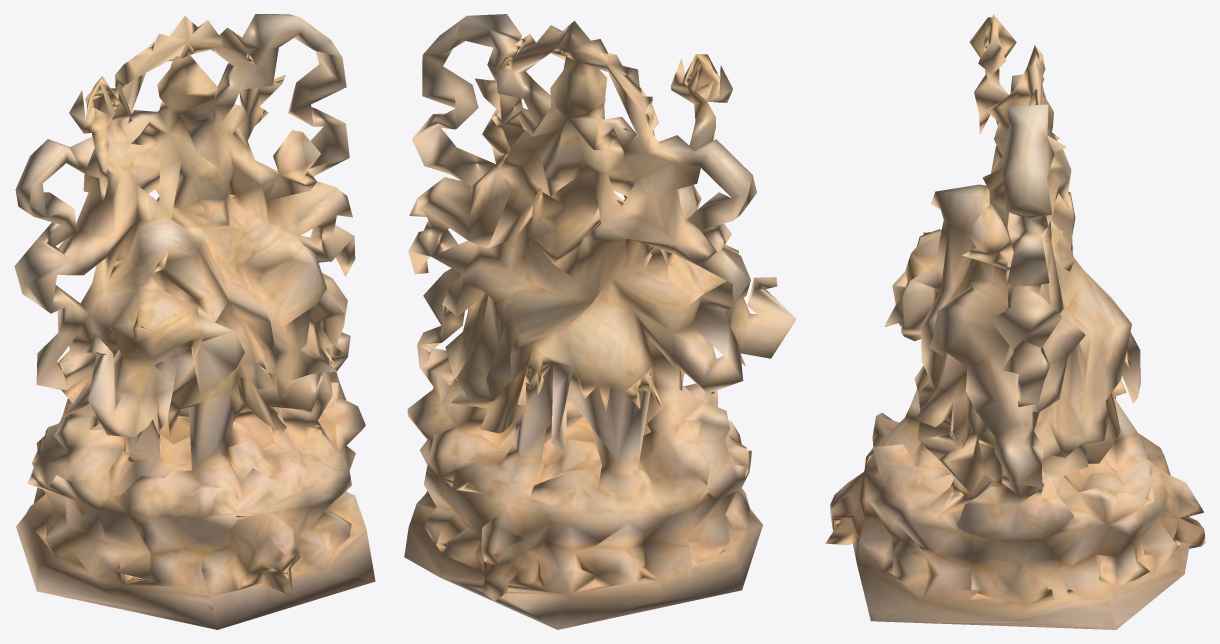
Rendered from far.glb.
3 views of the same model, side by side, from view 1: azimuth 30°, elevation 25°; view 2: azimuth 150°, elevation 25°; view 3: azimuth 270°, elevation 25° (orthographic). The views are drawn at different scales.
Parts seen in each view (by area): view 1: owner-collection20-04; view 2: owner-collection20-04; view 3: owner-collection20-04.
Part boxes in pixels (x1,y1,x2,y2): owner-collection20-04: (14,14,375,629); owner-collection20-04: (404,14,796,629); owner-collection20-04: (825,14,1205,629).
Size of the model in its own units: 0.6549 by 0.996 by 0.6542.
Materials: 1 (1 with a texture image).
